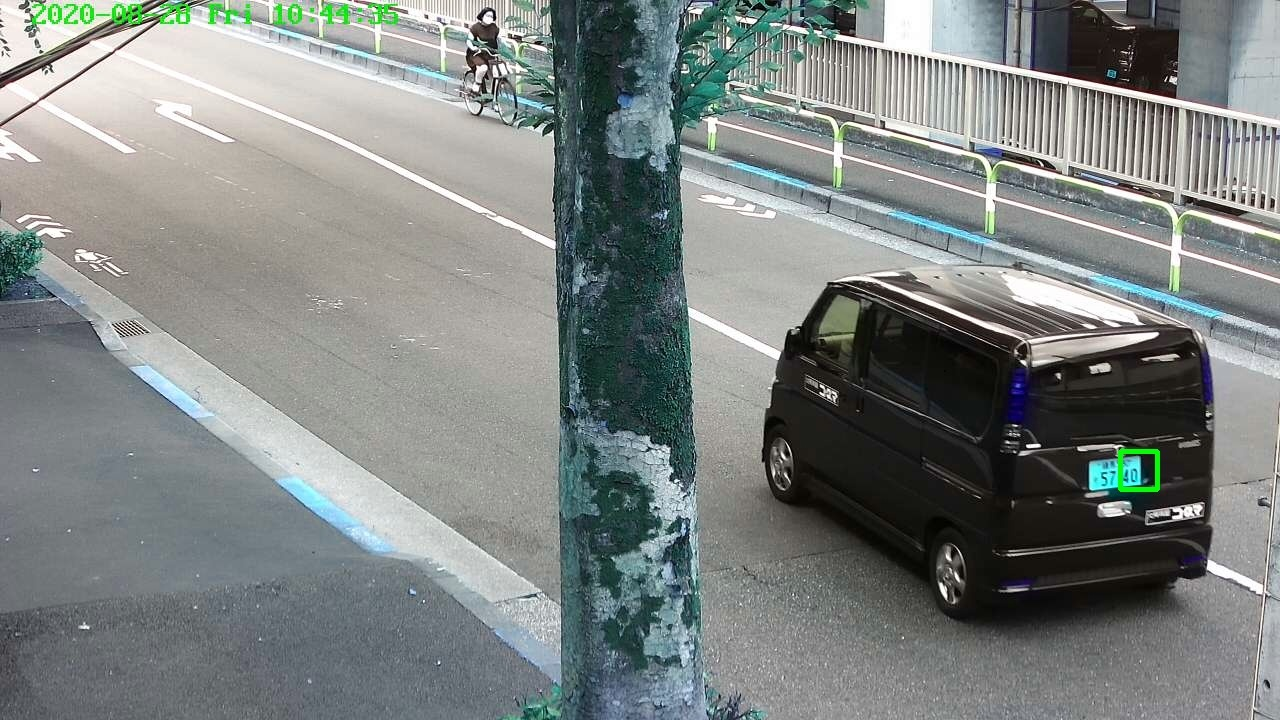number_plate: (1090, 459, 1143, 487)
